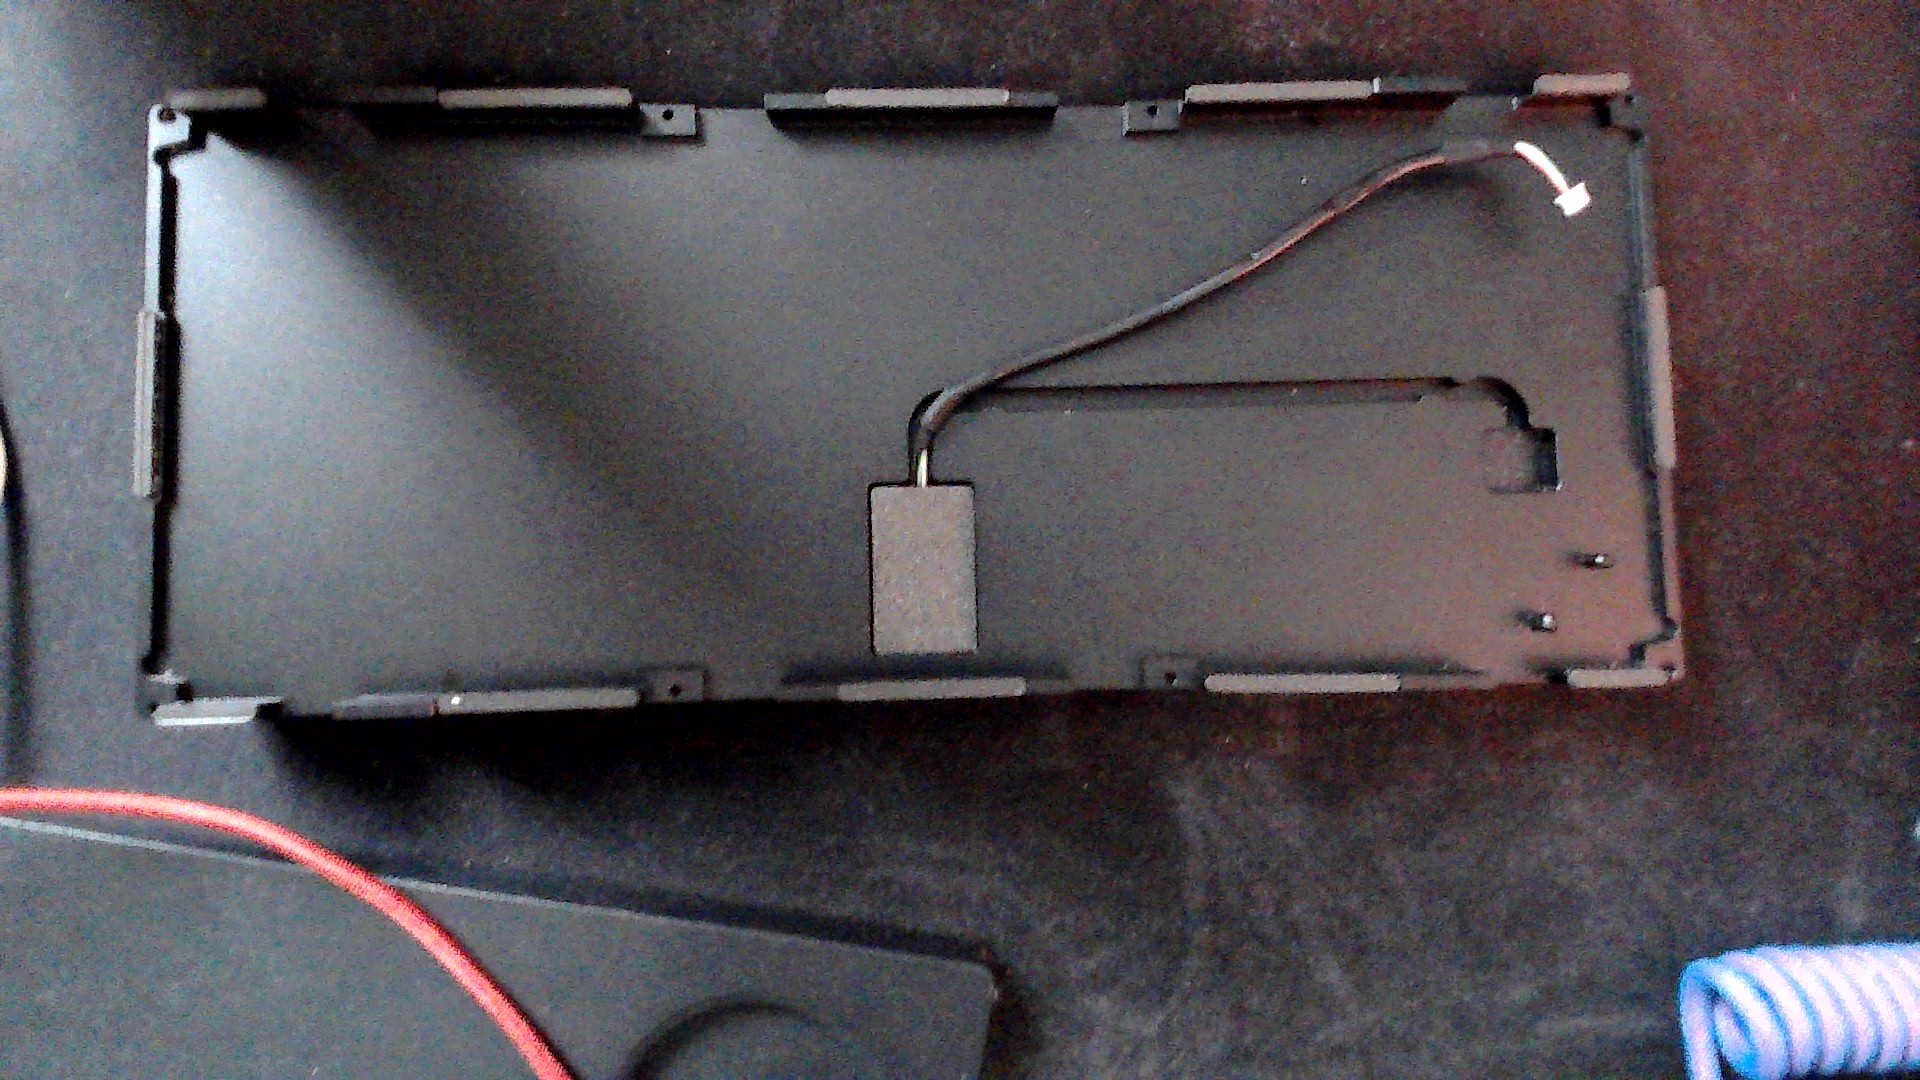case: (109, 34, 1712, 769)
